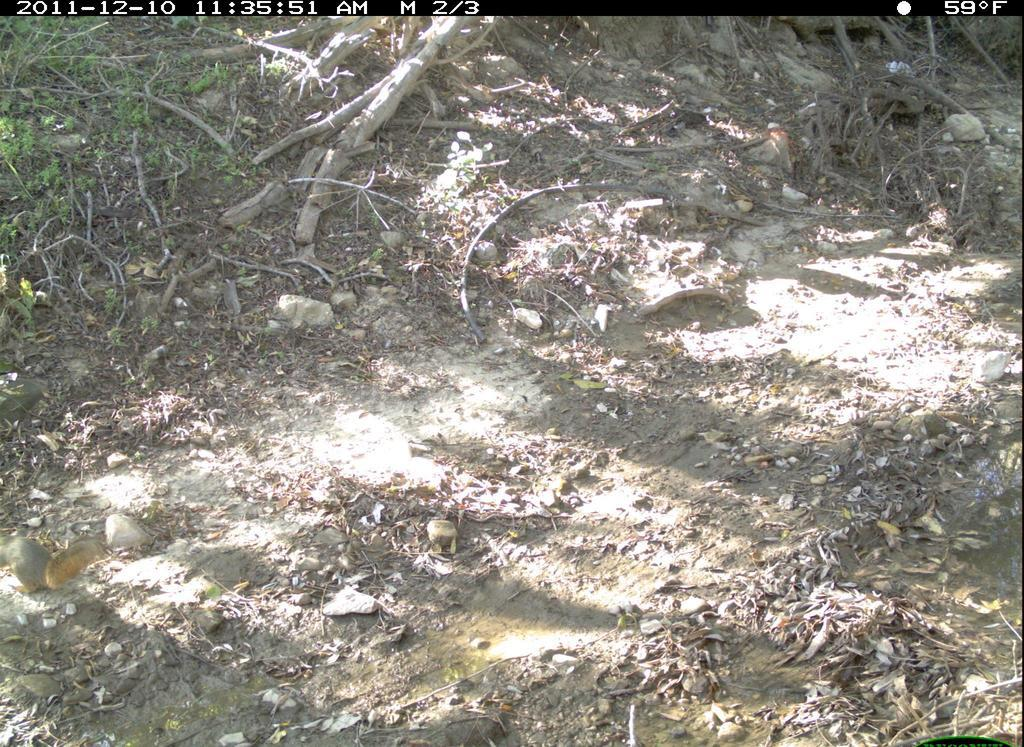squirrel: (1, 525, 125, 600)
